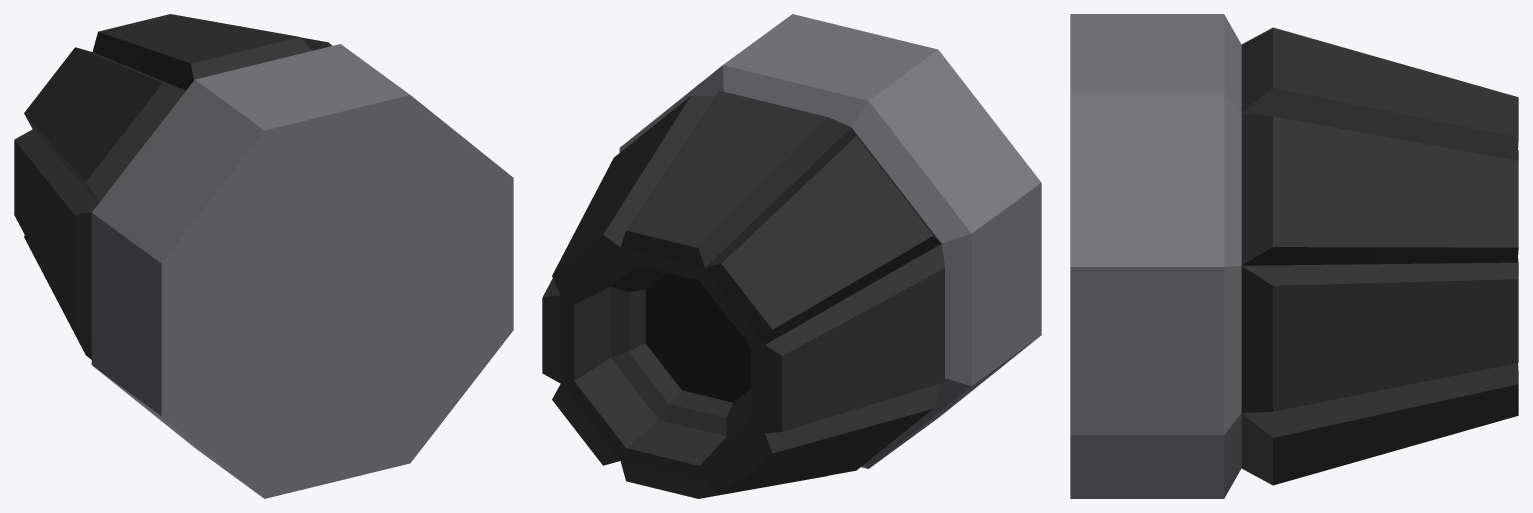
File: model_engine_01.gltf
3 views of the same model, side by side, from view 1: azimuth 30°, elevation 25°; view 2: azimuth 150°, elevation 25°; view 3: azimuth 270°, elevation 25° (orthographic). The views are drawn at different scales.
Parts seen in each view (by area): view 1: model_engine_01; view 2: model_engine_01; view 3: model_engine_01.
Part boxes in pixels (box(x1,y1,x2,y2)): model_engine_01: box(14, 14, 513, 498); model_engine_01: box(542, 14, 1041, 498); model_engine_01: box(1070, 14, 1518, 498).
Size of the model in its own units: 1 by 1 by 1.
Materials: 1 (1 with a texture image).
